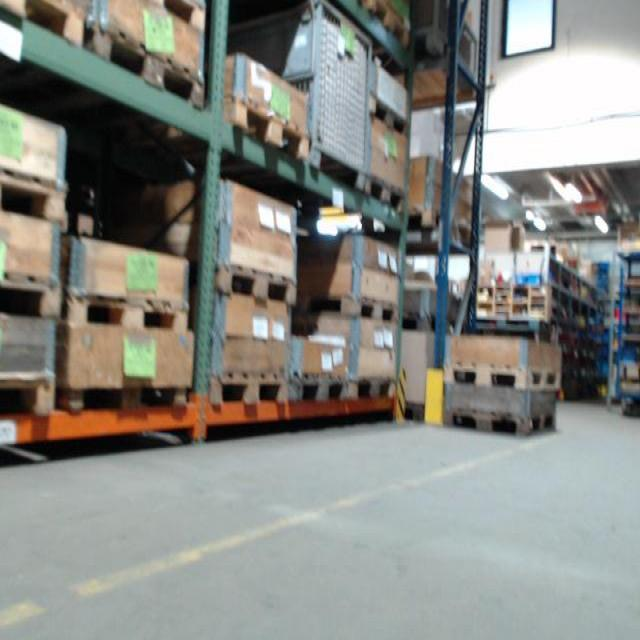pallet: (89, 23, 204, 111), (63, 289, 190, 334), (222, 97, 309, 162), (0, 166, 69, 226), (1, 0, 88, 46), (445, 359, 562, 393), (64, 382, 188, 413), (213, 263, 299, 305), (446, 407, 558, 439), (290, 372, 397, 404), (298, 294, 400, 327), (0, 269, 62, 317), (209, 372, 288, 407), (0, 376, 55, 422), (364, 0, 410, 48), (362, 174, 408, 212), (368, 96, 408, 137), (155, 0, 206, 30)
stillage: (210, 8, 377, 204)
